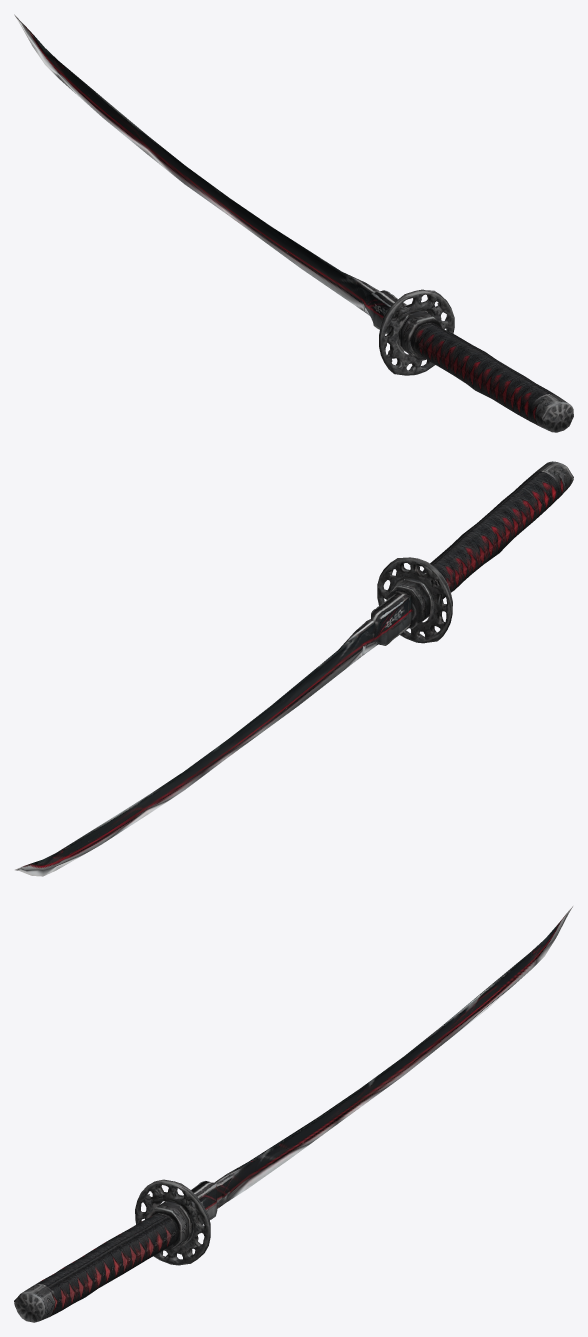
The model's file is Meshy_AI_Crimson_Shadow_Katana_1012190942_texture.fbx.
The picture shows the model from 3 angles, top to bottom: view 1: azimuth 30°, elevation 25°; view 2: azimuth 150°, elevation 25°; view 3: azimuth 330°, elevation 25°; orthographic projection.
Visible parts, largest first — view 1: Mesh_0; view 2: Mesh_0; view 3: Mesh_0.
Boxes of the visible parts, bbox=[...] form: Mesh_0: bbox=[14, 14, 573, 432]; Mesh_0: bbox=[15, 461, 573, 876]; Mesh_0: bbox=[14, 906, 572, 1322].
Bounding box in the file's own units: 7.62 × 8.06 × 95.12.
1 material, 1 textured.
